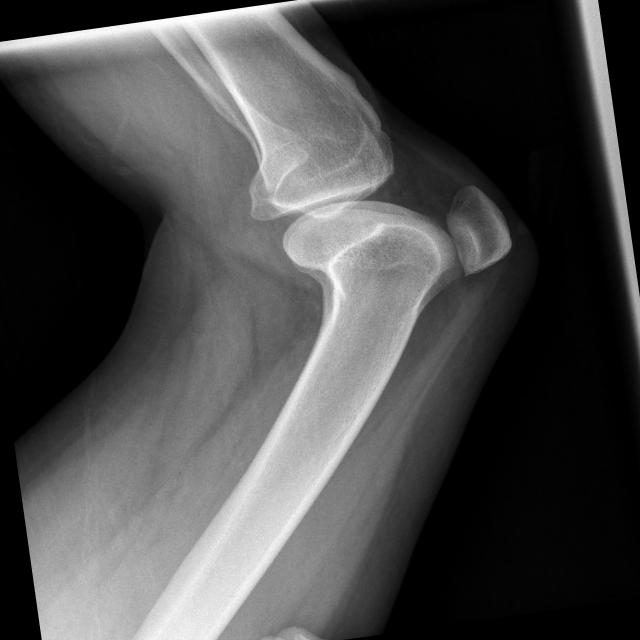Knee: (240, 106, 522, 309)
